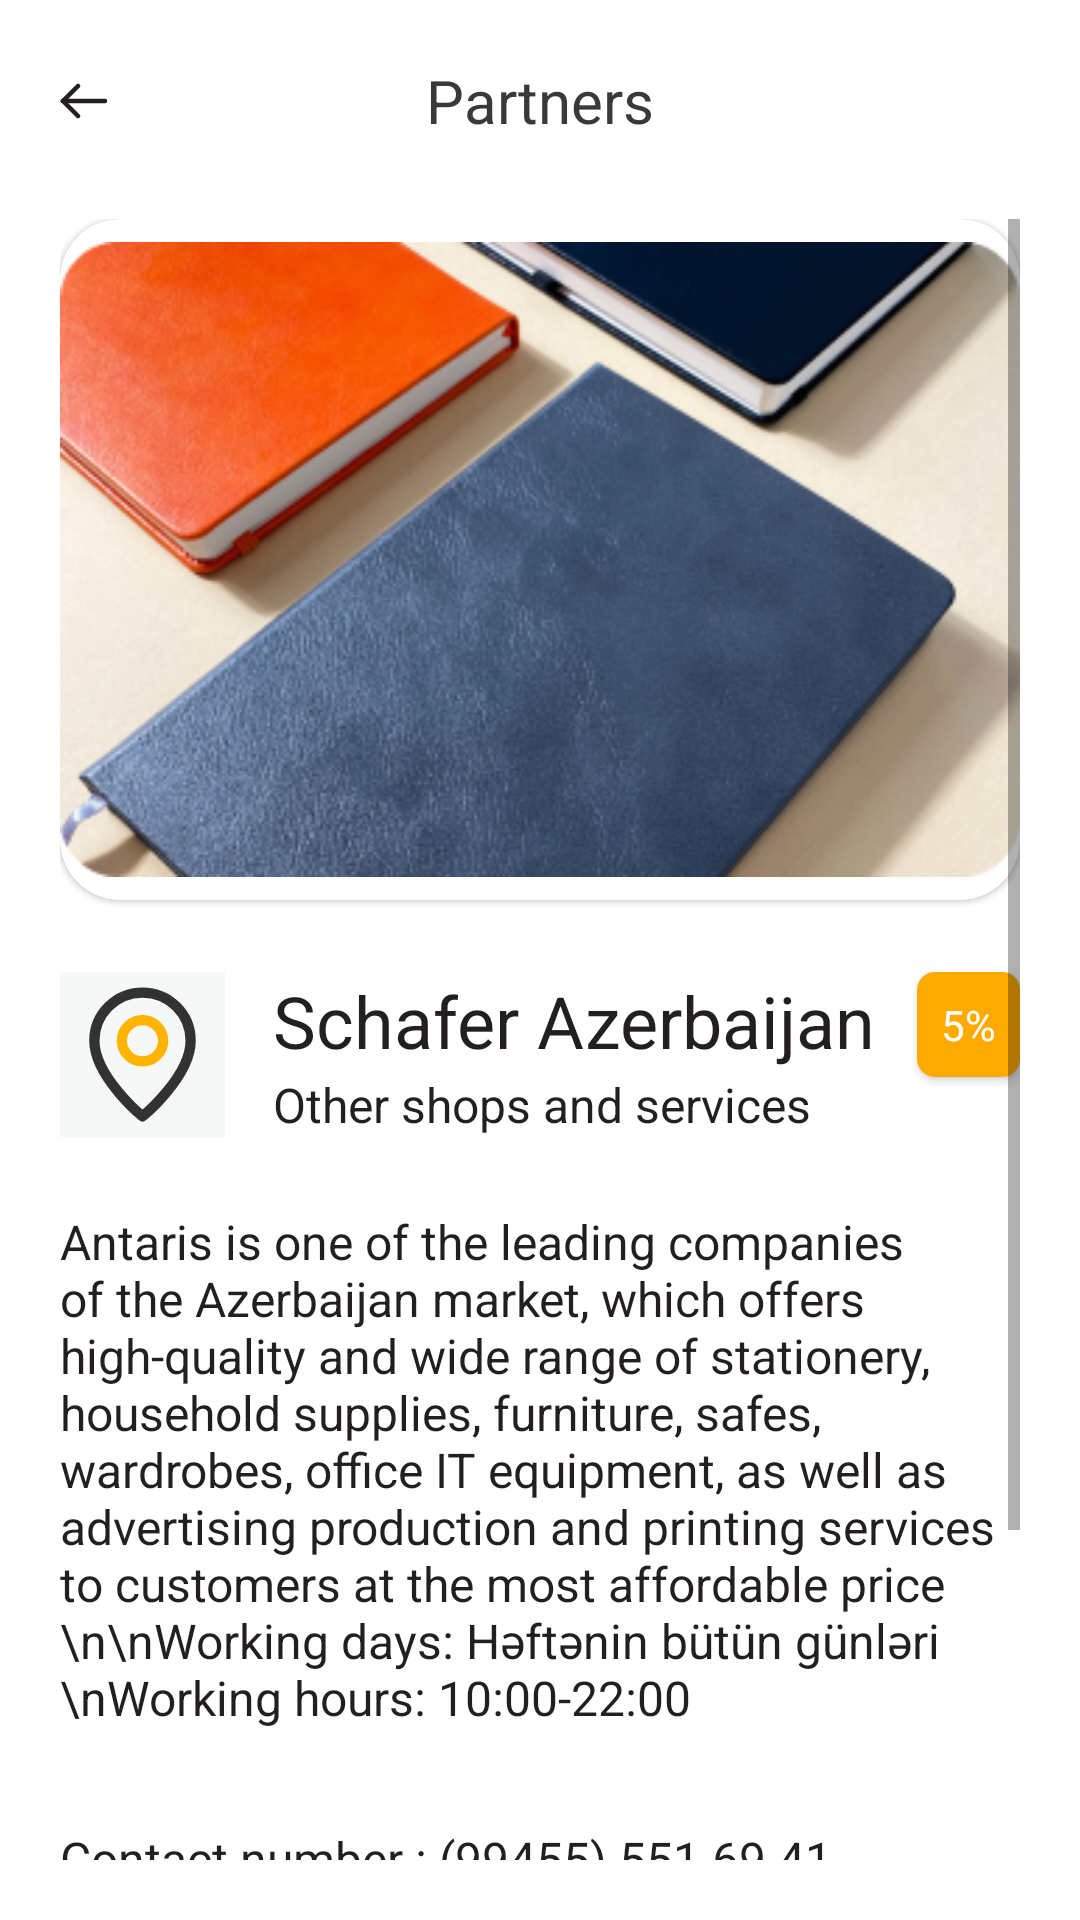

Screen size 1080×1920. Icon name, then its box in pixels as box=[x1, y1, x2, y2]:
back: box=[60, 83, 107, 119]
map location: box=[60, 972, 225, 1137]
